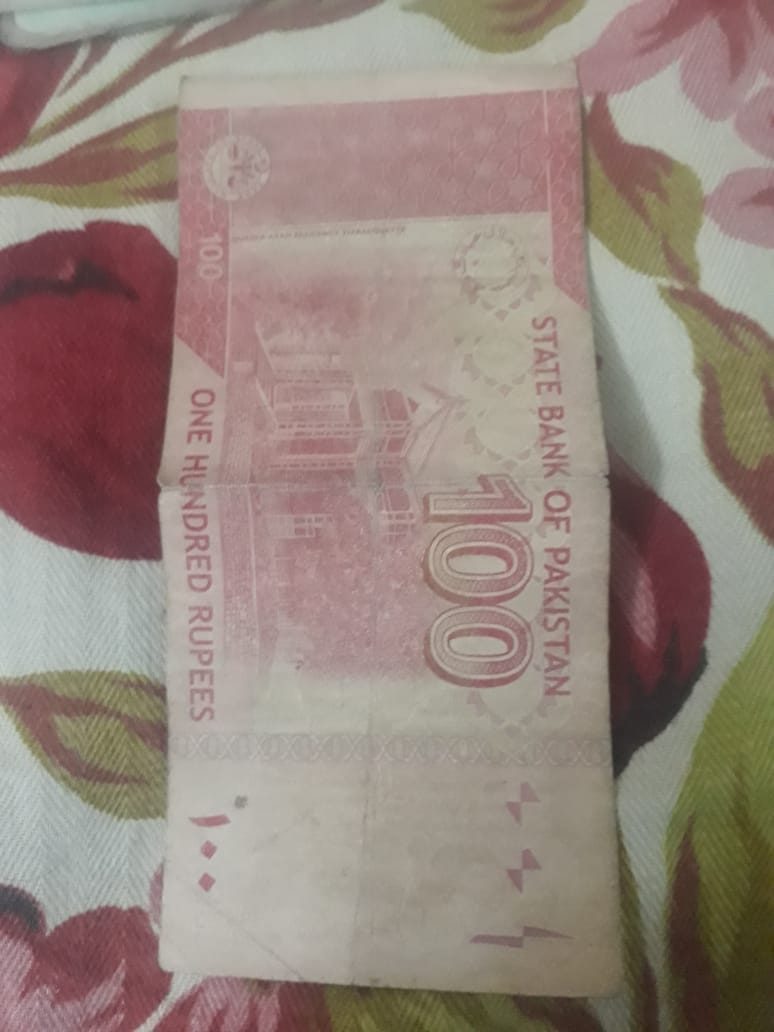100 rupee: (148, 61, 629, 979)
